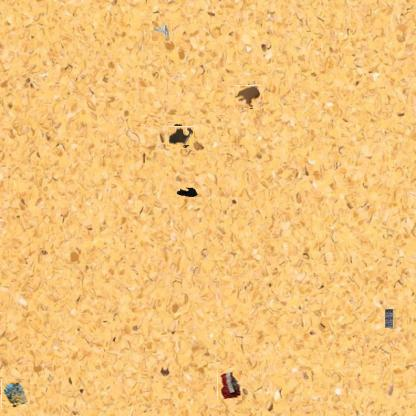dirty: (1, 380, 30, 409), (217, 370, 242, 400), (152, 21, 172, 41), (175, 185, 199, 199), (386, 309, 396, 329)
liquid: (236, 85, 261, 109), (170, 125, 193, 147)
